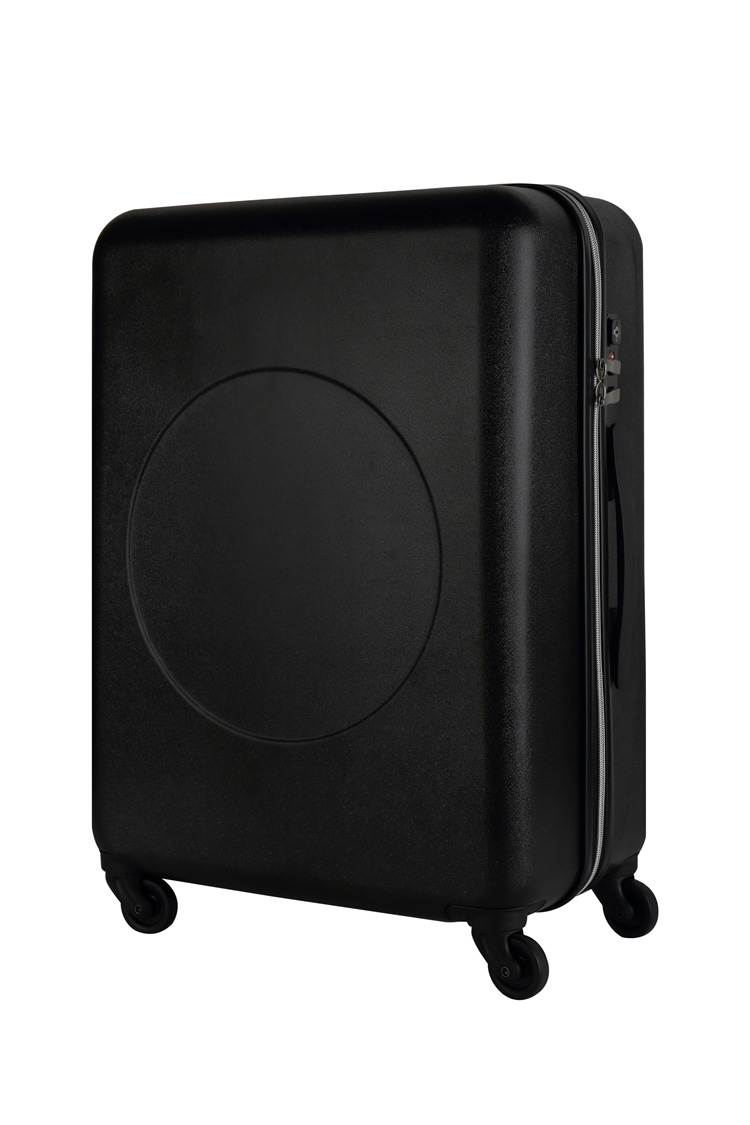suitcase: (82, 178, 670, 1004)
